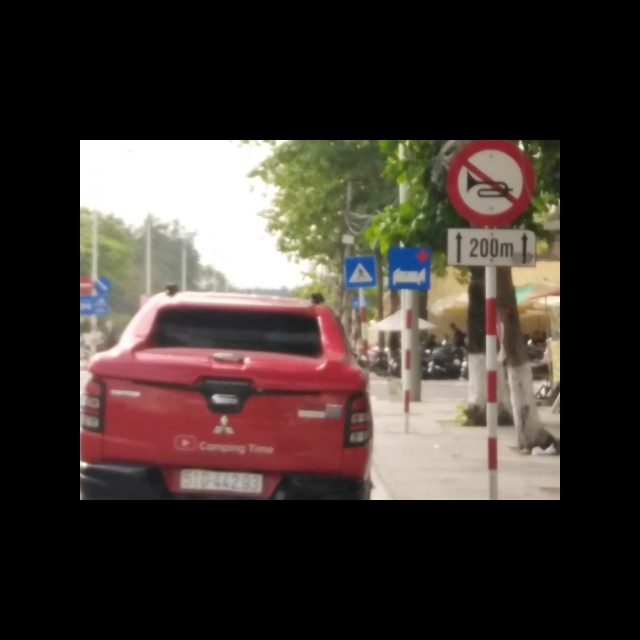Bệnh viện: (389, 248, 430, 293)
Cấm bấm còi: (446, 140, 533, 228)
Đường dành cho người đi bộ: (344, 255, 382, 288)
